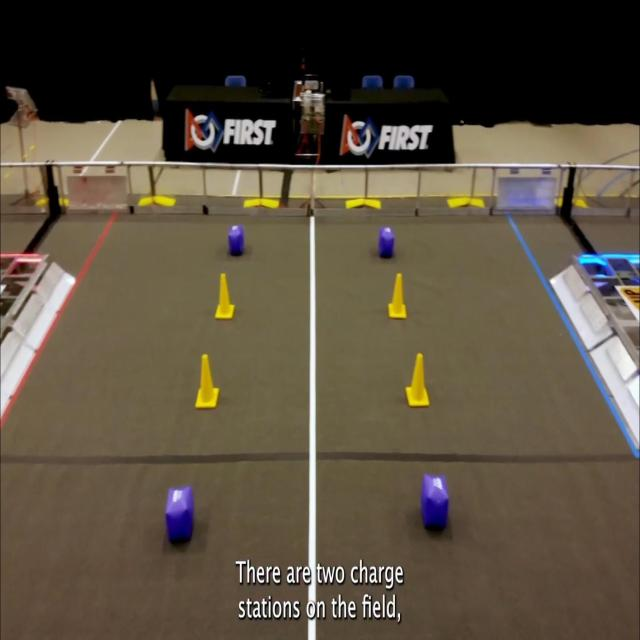frc_cone: (196, 354, 220, 408), (406, 353, 430, 407), (388, 272, 408, 320), (214, 273, 234, 319)
frc_cube: (165, 484, 194, 543), (421, 473, 449, 534), (378, 226, 395, 258), (228, 225, 244, 255)
